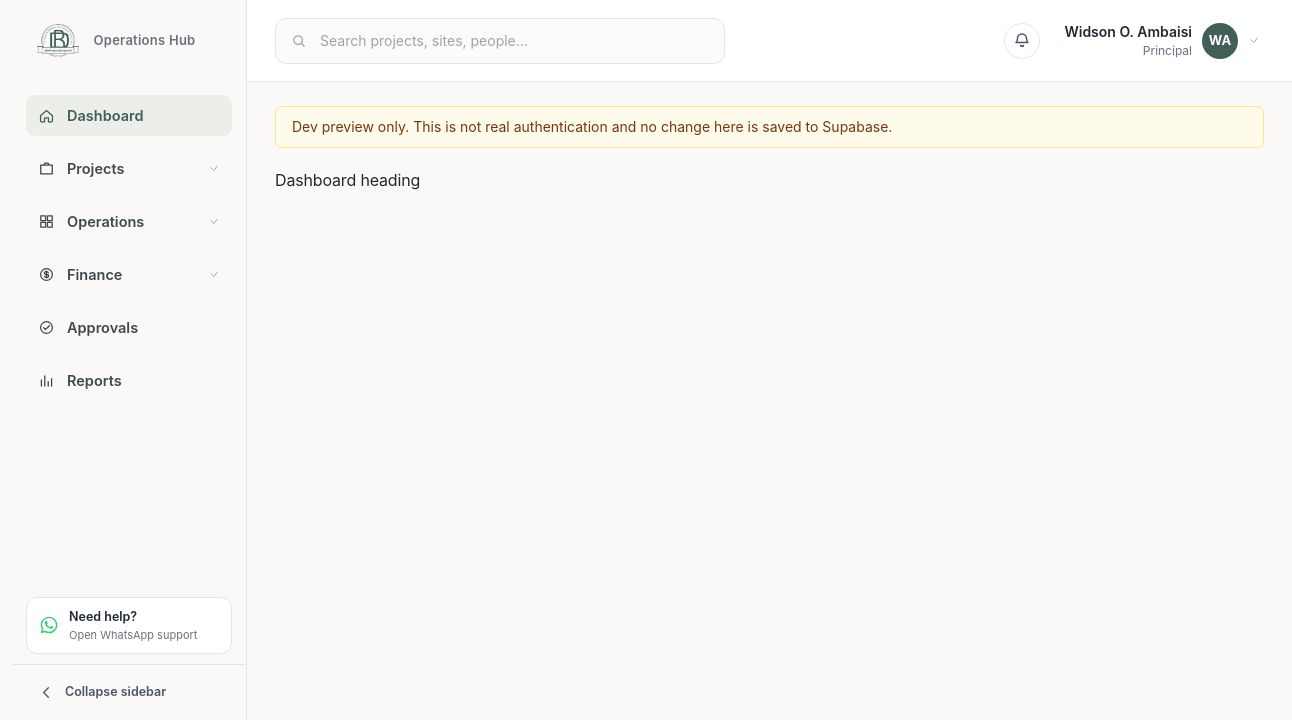
Test case: Operating-model active and expanded state › keeps active and expanded independent
Step 1. Click the button "Operations" → click(129, 222), box top-left (26, 201), bottom-right (232, 242)
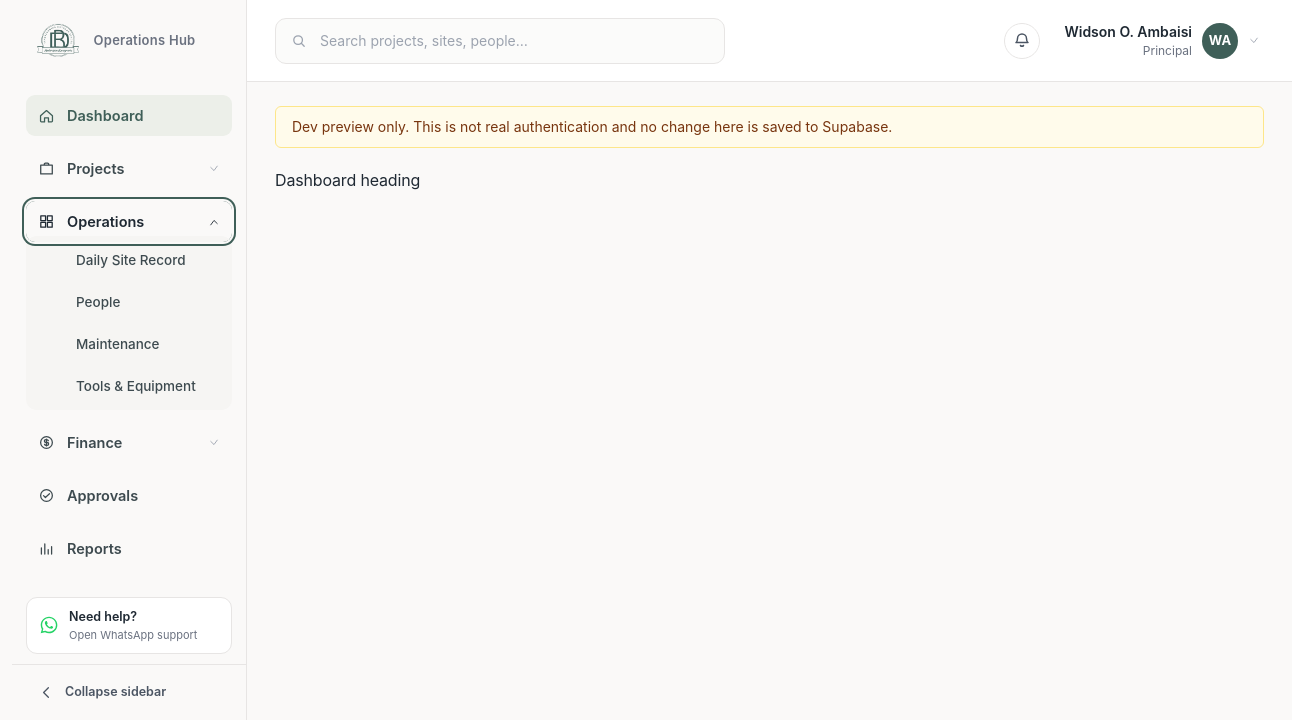
Result: the button "Operations" is expanded at top-left (26, 201), bottom-right (232, 242)
